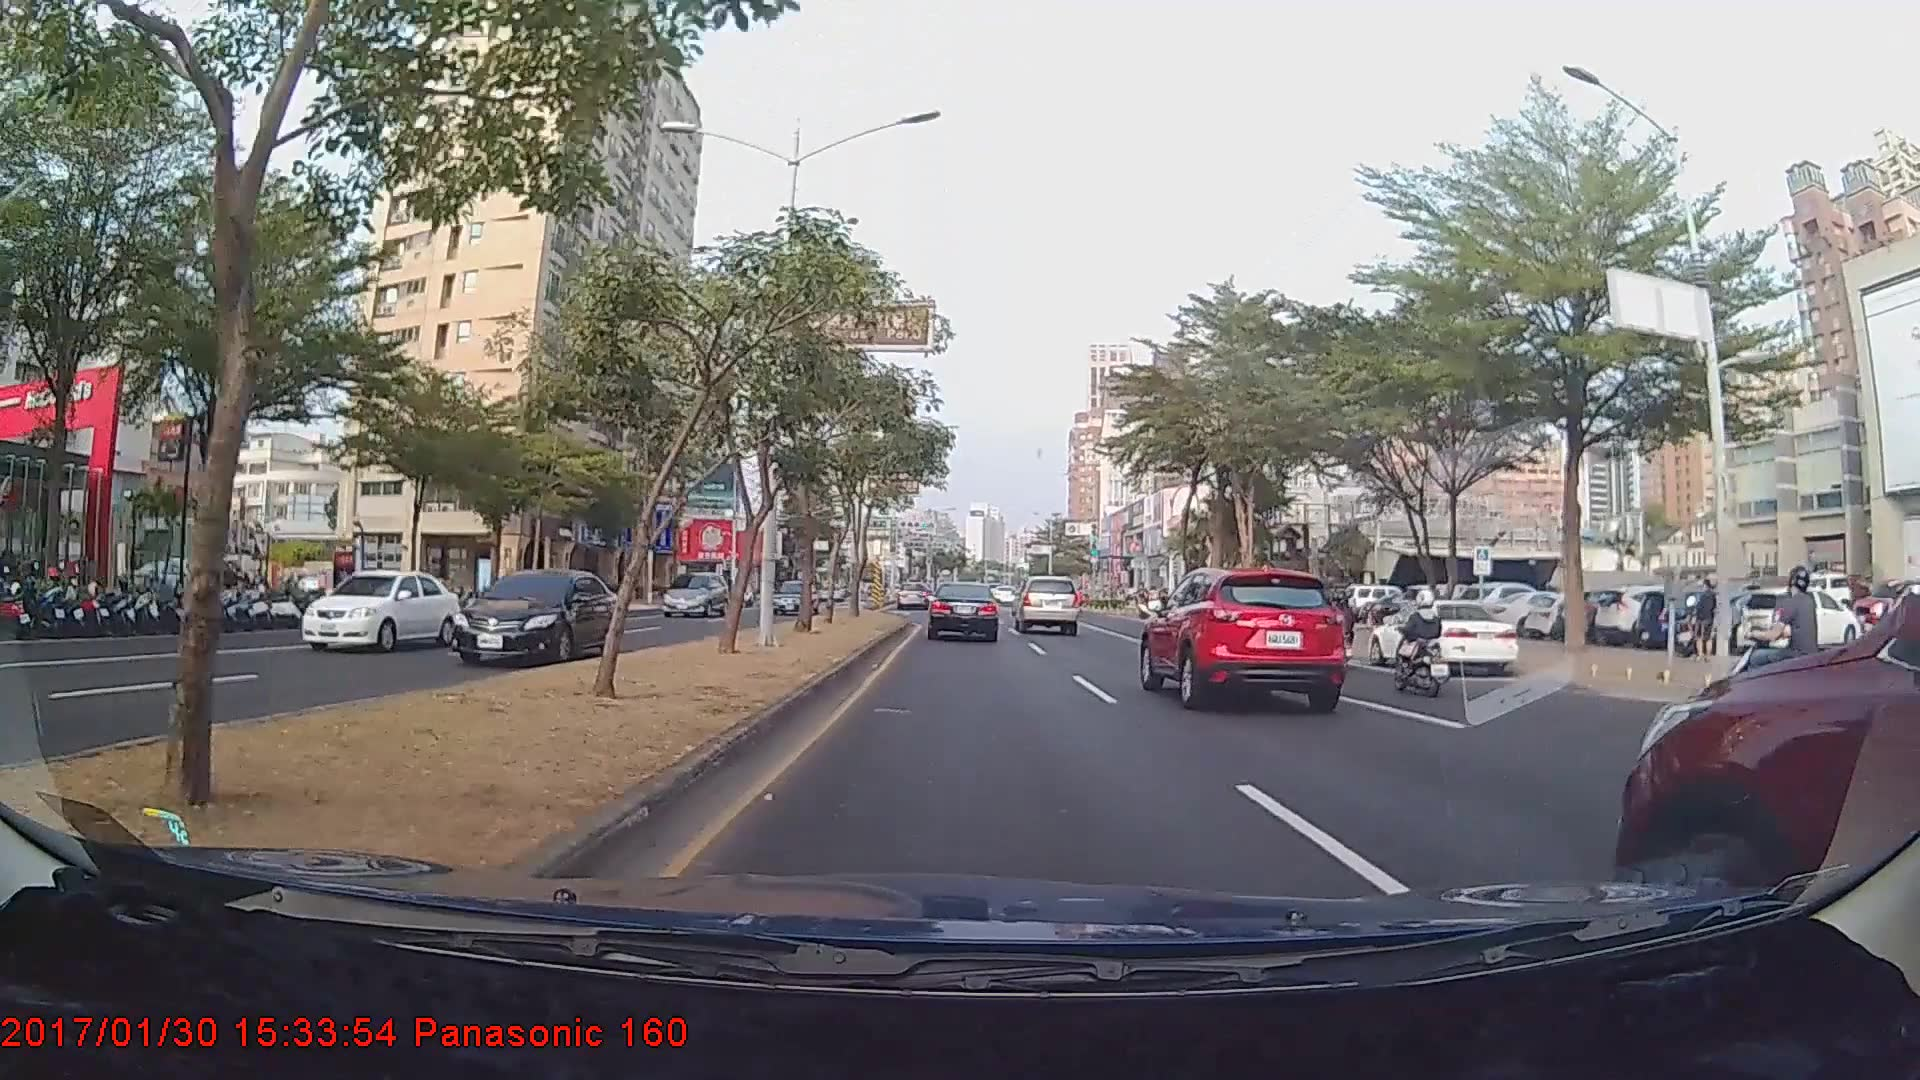pedestrian: (1688, 578, 1719, 657)
rider: (1710, 555, 1836, 757), (1382, 586, 1456, 699)
vehicle: (1605, 489, 1919, 1041), (1142, 559, 1351, 711), (444, 566, 620, 664), (298, 569, 461, 651), (1365, 598, 1520, 677), (1735, 587, 1868, 662), (926, 580, 1000, 642), (1012, 574, 1081, 635), (658, 569, 729, 616), (773, 580, 816, 618), (896, 581, 931, 611)
